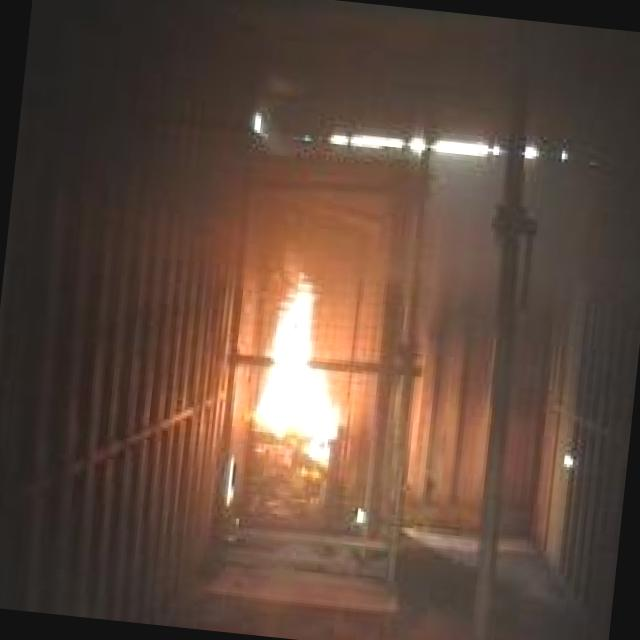fire: (230, 264, 360, 448)
